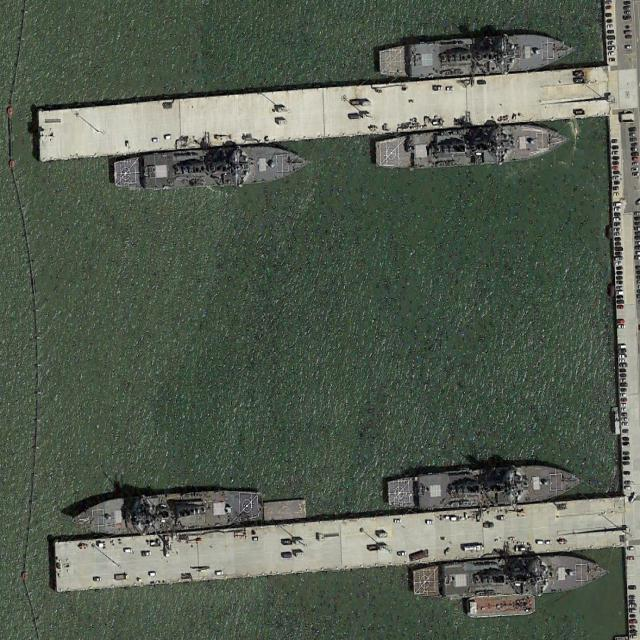Destroyer: (112, 138, 311, 195), (378, 26, 574, 82), (387, 459, 586, 512), (70, 485, 265, 539), (412, 550, 611, 601), (374, 121, 572, 172)
